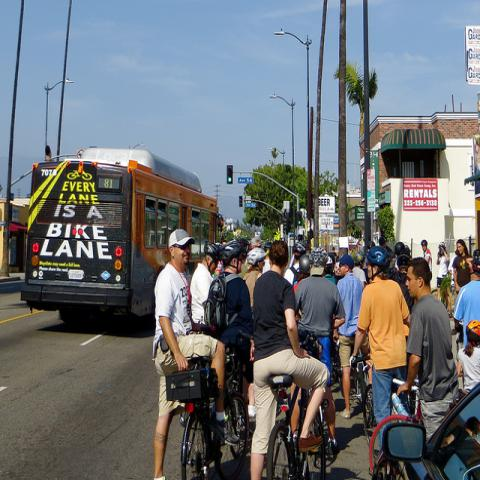bus: (19, 147, 222, 330)
car: (384, 383, 479, 479), (236, 238, 253, 262)
